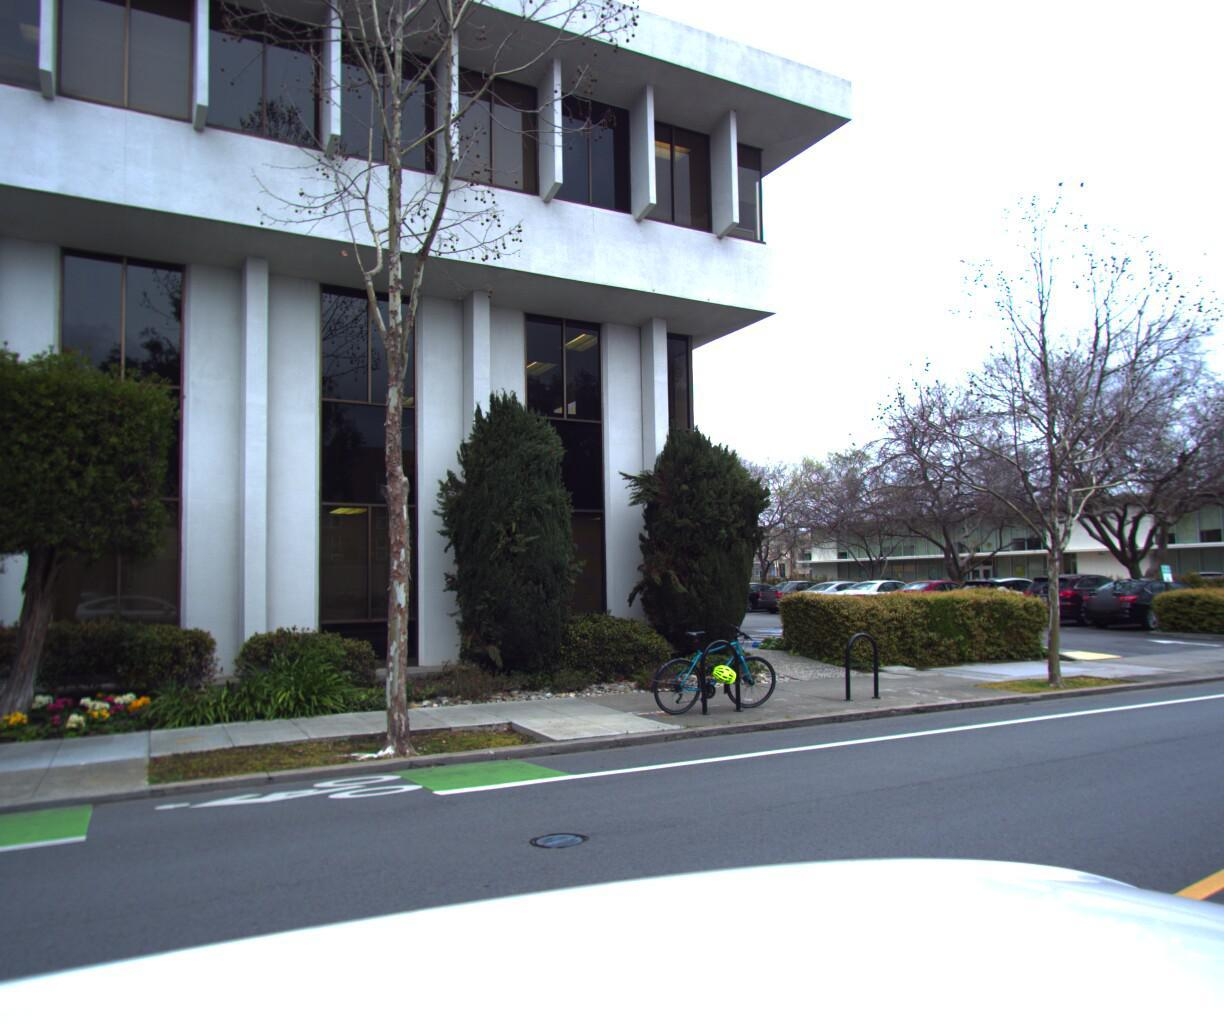bicycle: (629, 623, 797, 721)
car: (1070, 578, 1217, 636), (1009, 575, 1142, 627)
